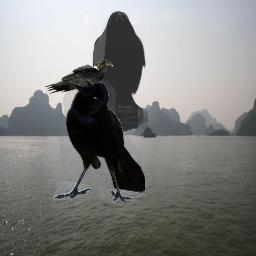Crow: (53, 78, 145, 203), (88, 11, 148, 134), (44, 59, 114, 102)
